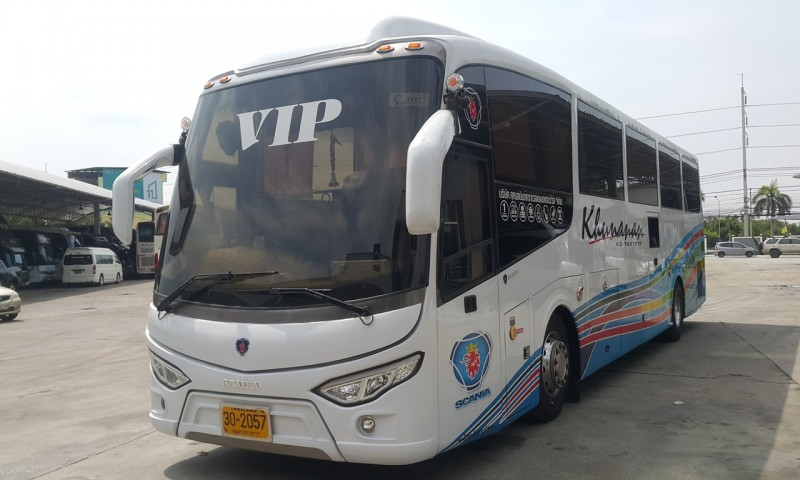bus: (143, 13, 709, 467)
